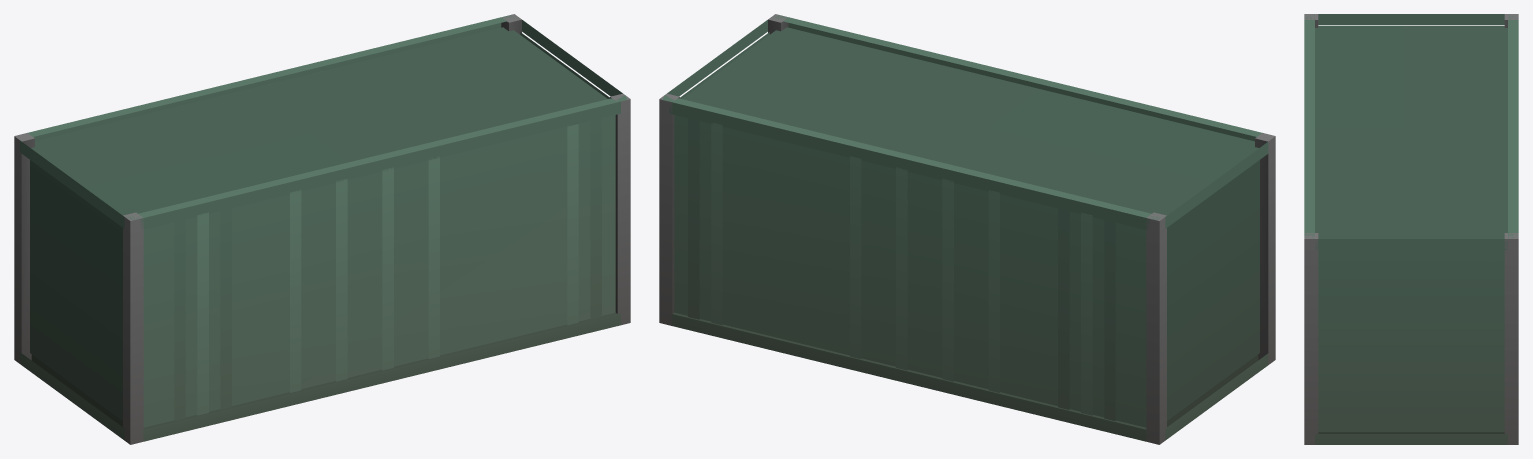
Rendered from box_green.lod.glb.
3 renders of one model, left to right at view 1: azimuth 30°, elevation 25°; view 2: azimuth 150°, elevation 25°; view 3: azimuth 270°, elevation 25°, orthographic. The views are drawn at different scales.
Visible parts, largest first — view 1: box_green; view 2: box_green; view 3: box_green.
Part boxes in pixels (x1=…): box_green: x1=14, y1=14, x2=630, y2=444; box_green: x1=659, y1=14, x2=1275, y2=444; box_green: x1=1304, y1=14, x2=1518, y2=444.
Size of the model in its own units: 6.06 by 2.59 by 2.44.
